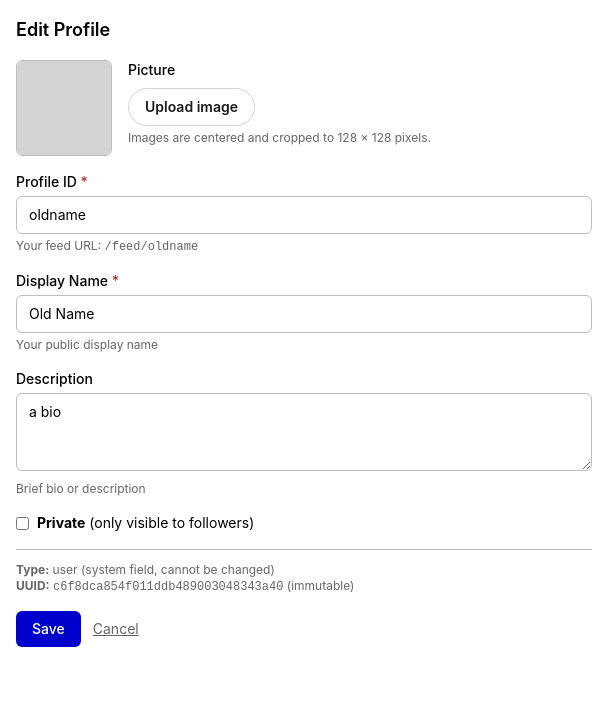
Scenario: ProfileForm › saves and clears the rename warning on success
Replace the text in the field labelled "Profile ID *" with "newname" at (304, 215), box [16,196,592,234]
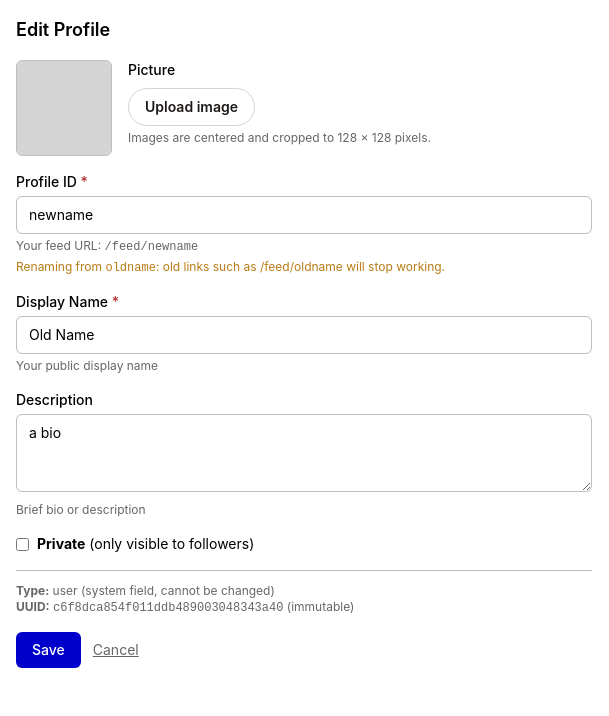
Submit the form
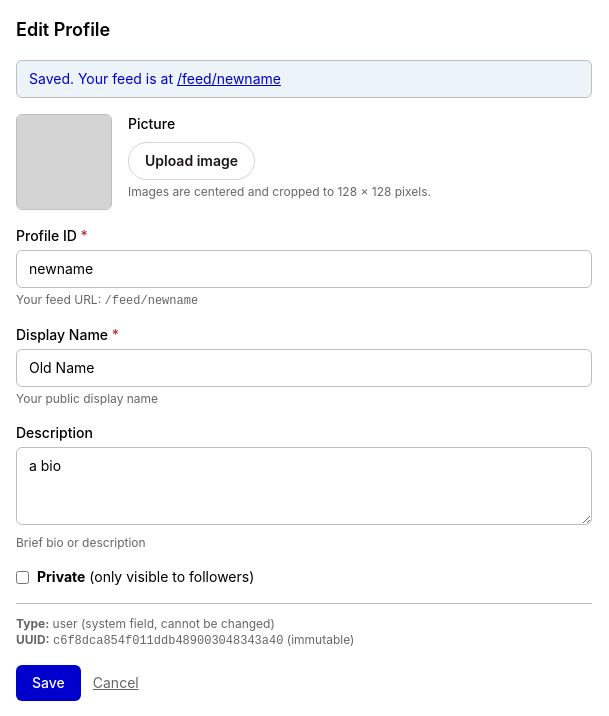
Now the message shows "/feed/newname", box [16,60,592,98]
Now the text "will stop working" is gone
